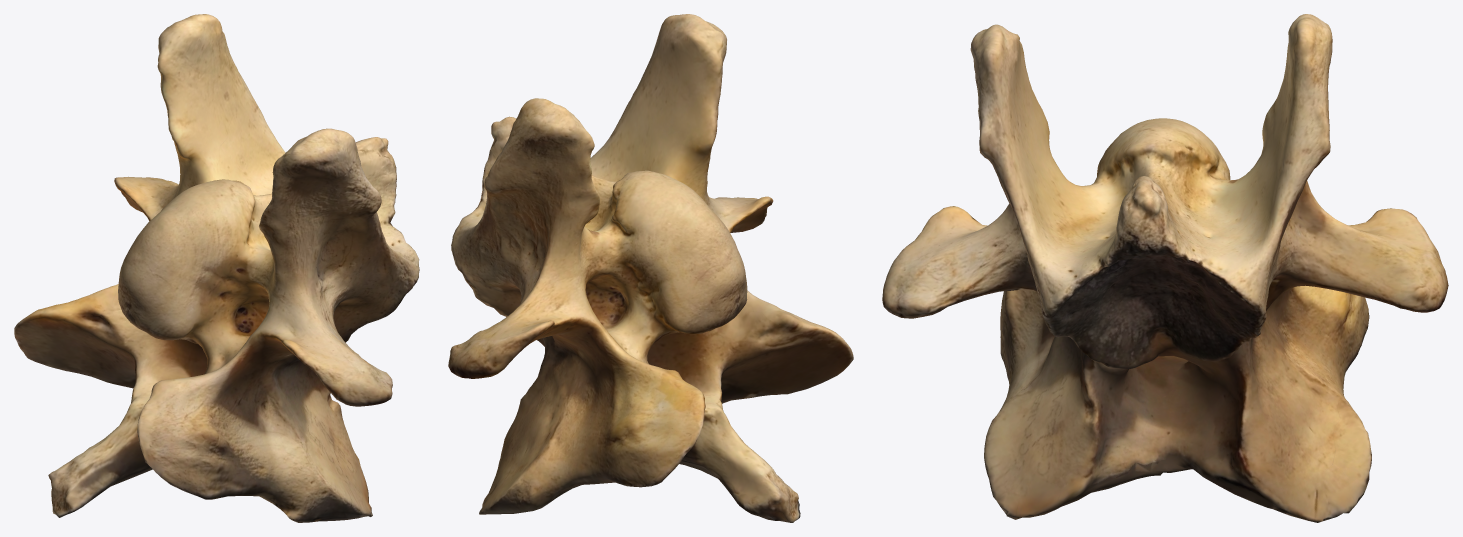
File: Vértebra caballo.glb
3 renders of one model, left to right at view 1: azimuth 30°, elevation 25°; view 2: azimuth 150°, elevation 25°; view 3: azimuth 270°, elevation 25°, orthographic. The views are drawn at different scales.
Visible parts, largest first — view 1: 3DModel; view 2: 3DModel; view 3: 3DModel.
Boxes of the visible parts, <box> form: 3DModel: <box>14,14,419,522</box>; 3DModel: <box>448,14,853,522</box>; 3DModel: <box>882,14,1448,522</box>.
Size of the model in its own units: 0.4308 by 0.5357 by 0.5796.
1 material, 1 textured.
